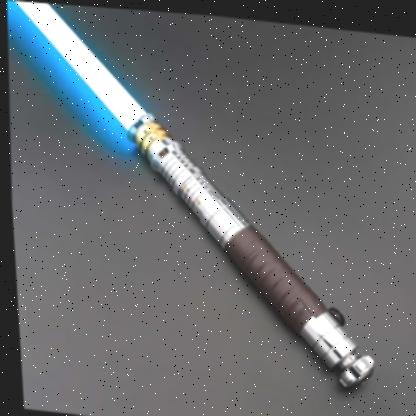lightsaber: (0, 0, 393, 402)
